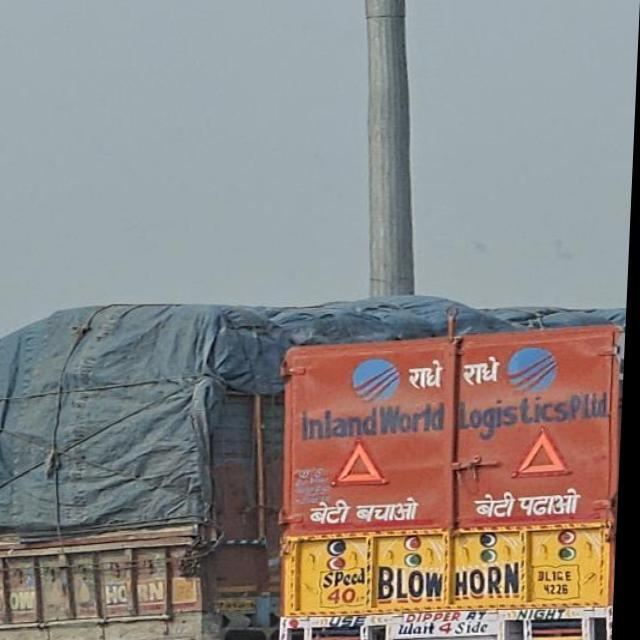covered: (0, 275, 317, 640)
uncovered: (346, 315, 629, 623)
